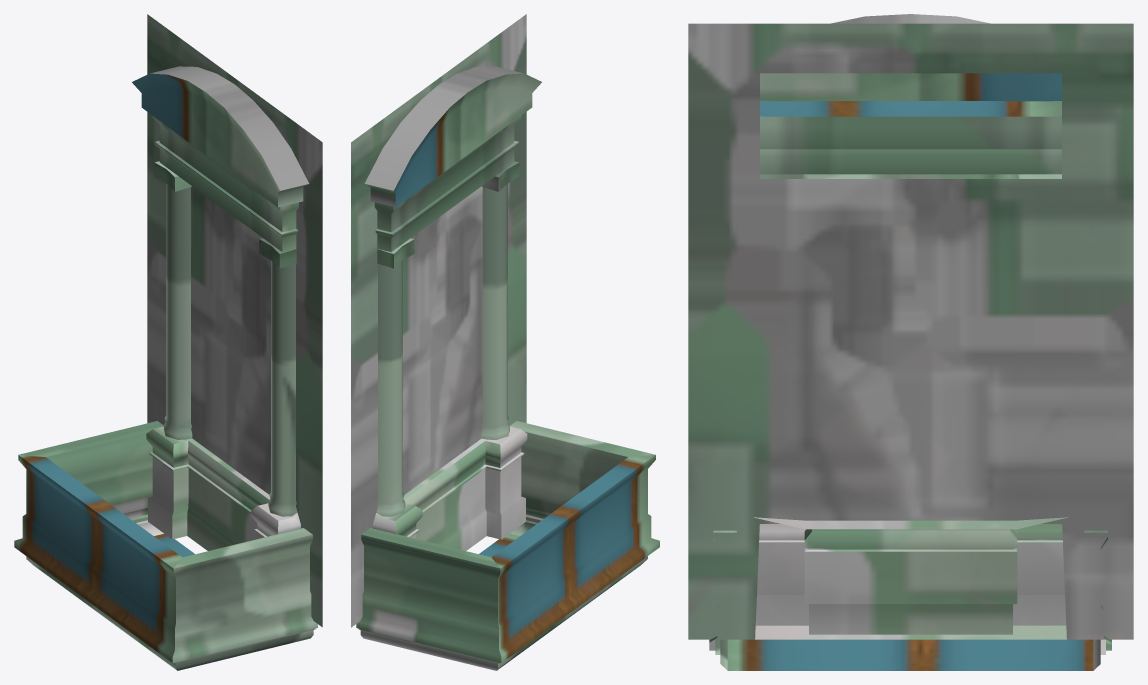
File: qVin_Buld1_F3WindowArcBalcony.fbx
3 views of the same model, side by side, from view 1: azimuth 30°, elevation 25°; view 2: azimuth 150°, elevation 25°; view 3: azimuth 270°, elevation 25° (orthographic). The views are drawn at different scales.
Parts seen in each view (by area): view 1: qVin_Buld1_F3WindowArcBalcony; view 2: qVin_Buld1_F3WindowArcBalcony; view 3: qVin_Buld1_F3WindowArcBalcony.
Part boxes in pixels (x1=…): qVin_Buld1_F3WindowArcBalcony: x1=14, y1=14, x2=322, y2=670; qVin_Buld1_F3WindowArcBalcony: x1=351, y1=14, x2=659, y2=670; qVin_Buld1_F3WindowArcBalcony: x1=688, y1=14, x2=1133, y2=670.
Size of the model in its own units: 159 by 479 by 300.
1 material, 1 textured.
